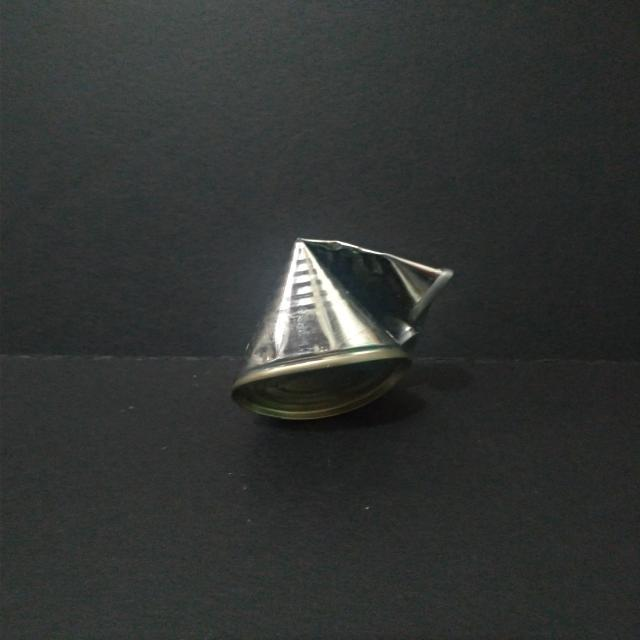metal-can: (230, 232, 455, 424)
